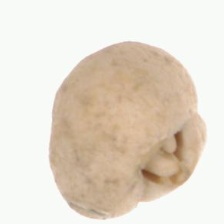L1: (128, 126, 189, 196)
L2: (47, 38, 207, 220)
